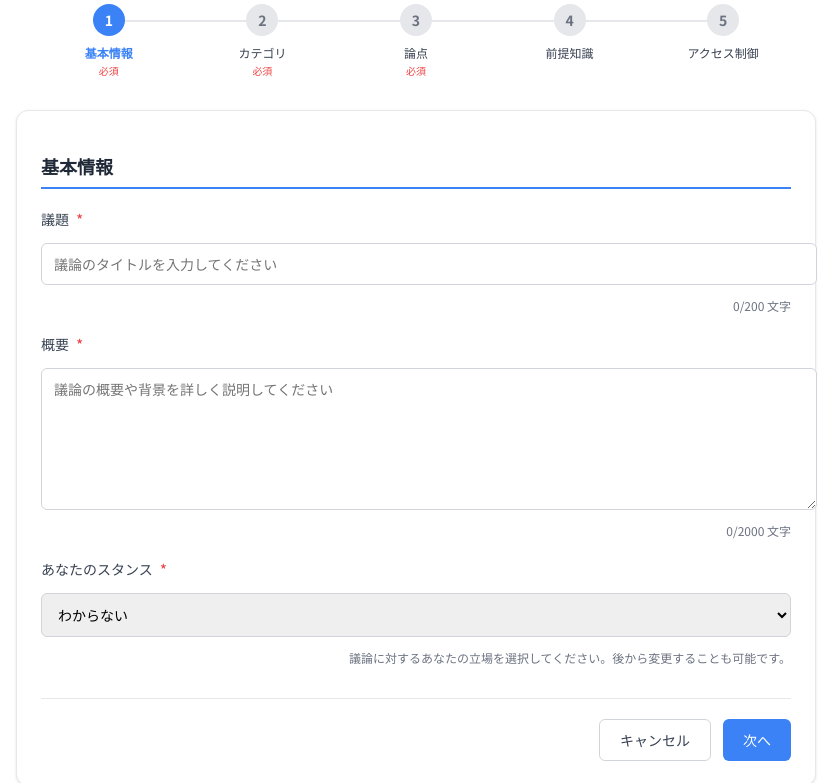
CreateDiscussionForm › validates required fields on basic info step
(page scrolled)
Click the button "次へ" at (757, 740), box [723,719,791,761]
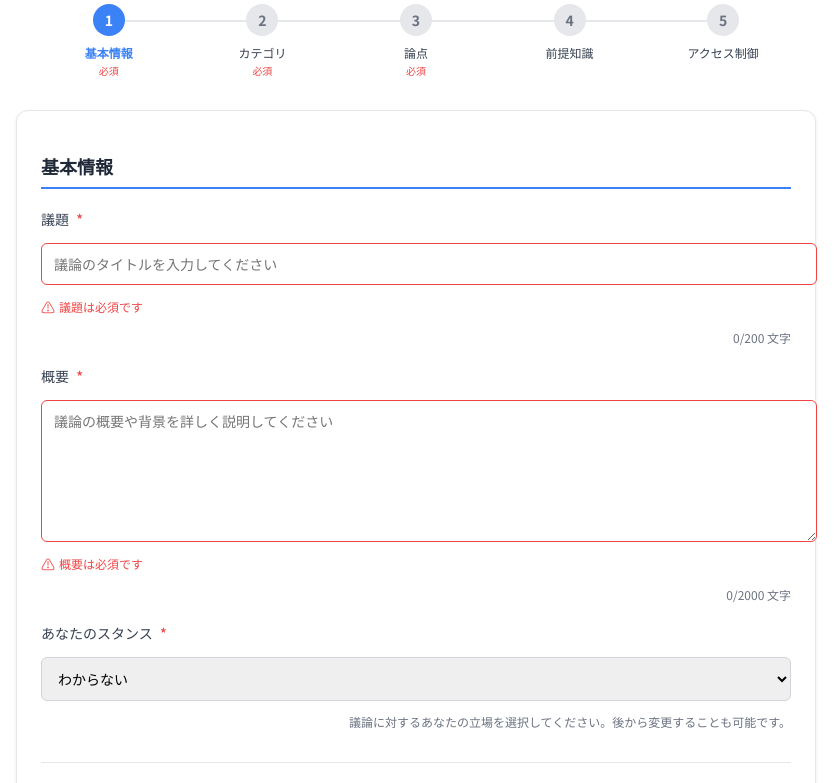
Check: the text "議題は必須です" is shown, box [59,298,143,315]
Check: the text "概要は必須です" is shown, box [59,555,143,572]
